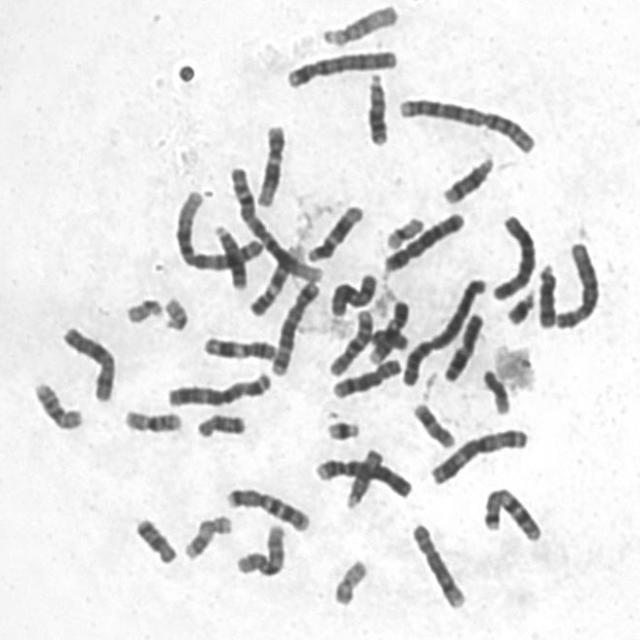A1: (222, 160, 325, 285), (169, 182, 266, 275)
A2: (396, 271, 491, 388), (392, 89, 538, 154)
A3: (424, 422, 531, 487), (162, 366, 274, 410)
B4: (280, 42, 400, 91), (309, 452, 415, 500)
B5: (378, 204, 467, 274), (265, 274, 322, 378)
C10: (322, 302, 375, 378), (230, 518, 288, 578)
C11: (443, 314, 485, 384), (198, 331, 278, 364)
C12: (302, 198, 366, 264), (250, 117, 288, 209)
C6: (550, 236, 601, 331), (488, 208, 538, 301)
C7: (220, 481, 312, 533), (477, 482, 544, 544)
C8: (405, 517, 468, 611), (327, 351, 404, 400)
C9: (244, 236, 306, 317), (363, 296, 411, 366)
D13: (207, 218, 248, 291), (360, 66, 390, 147)
D14: (436, 149, 497, 206), (534, 262, 558, 334)
D15: (316, 0, 401, 48), (339, 442, 386, 510)
E16: (27, 375, 85, 432), (117, 402, 185, 434)
E17: (177, 509, 234, 562), (407, 397, 457, 450)
E18: (128, 510, 179, 566), (190, 406, 248, 441)
F19: (379, 210, 425, 251), (480, 369, 512, 416)
F20: (327, 553, 370, 608), (369, 329, 410, 352)
G21: (501, 282, 538, 327), (320, 412, 363, 442)
G22: (119, 290, 165, 325), (158, 290, 192, 332)
X: (56, 319, 118, 403), (324, 266, 380, 319)
